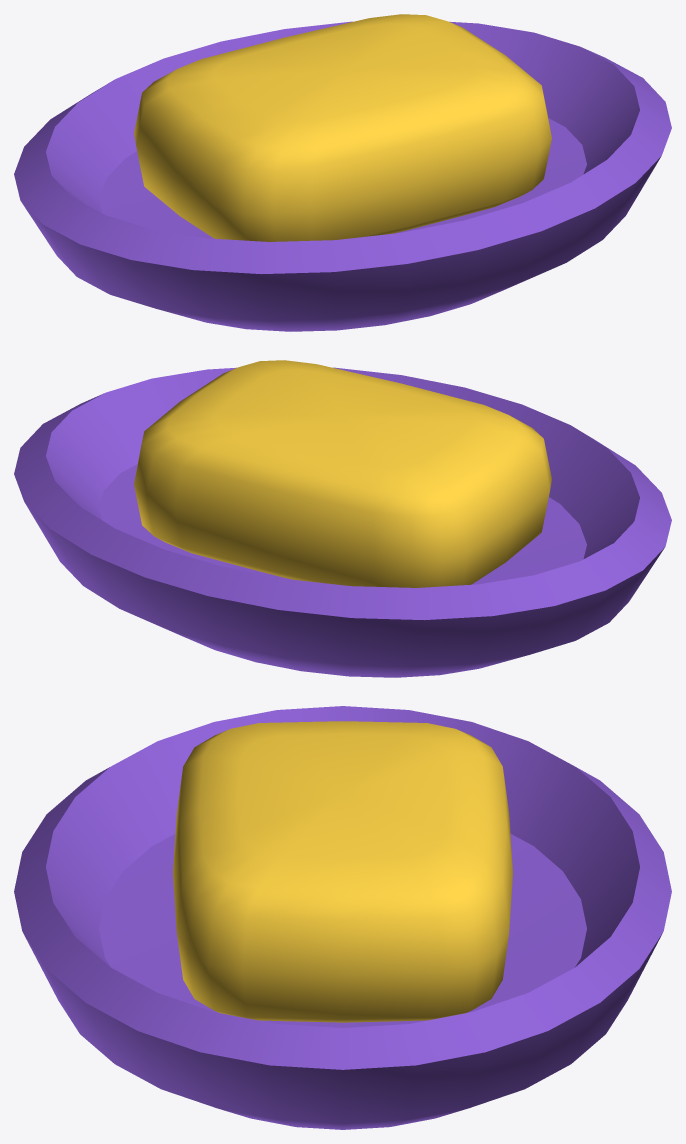
Rendered from saboneteira_sabonete_roxa.glb.
3 views of the same model, one above another, from view 1: azimuth 30°, elevation 25°; view 2: azimuth 150°, elevation 25°; view 3: azimuth 270°, elevation 25° (orthographic). The views are drawn at different scales.
Parts seen in each view (by area): view 1: saboneteira_sabonete_roxa; view 2: saboneteira_sabonete_roxa; view 3: saboneteira_sabonete_roxa.
Boxes of the visible parts, box(x1,y1,x2,y2) form: saboneteira_sabonete_roxa: box(14, 14, 671, 331); saboneteira_sabonete_roxa: box(14, 360, 671, 677); saboneteira_sabonete_roxa: box(14, 706, 671, 1129).
Bounding box in the file's own units: 0.124 × 0.036 × 0.0967.
Materials: 1 (1 with a texture image).
